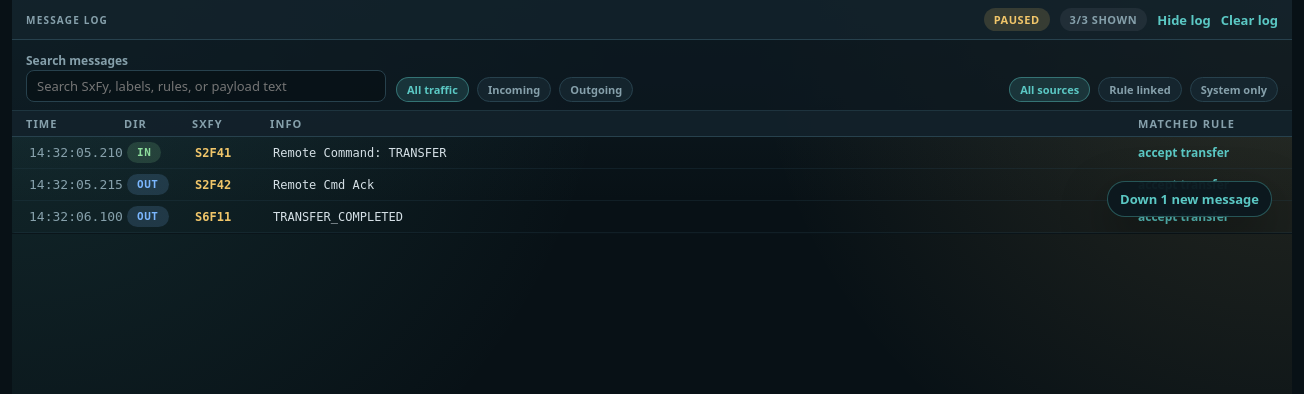
Test: MessageMonitor › pauses auto-tail when scrolled up and lets the user jump to latest messages
Expected: the text "Paused" is shown, 984,8 -> 1050,31
Click the button "Down 1 new message".
click(1190, 199)  # box 1107,181 -> 1272,217
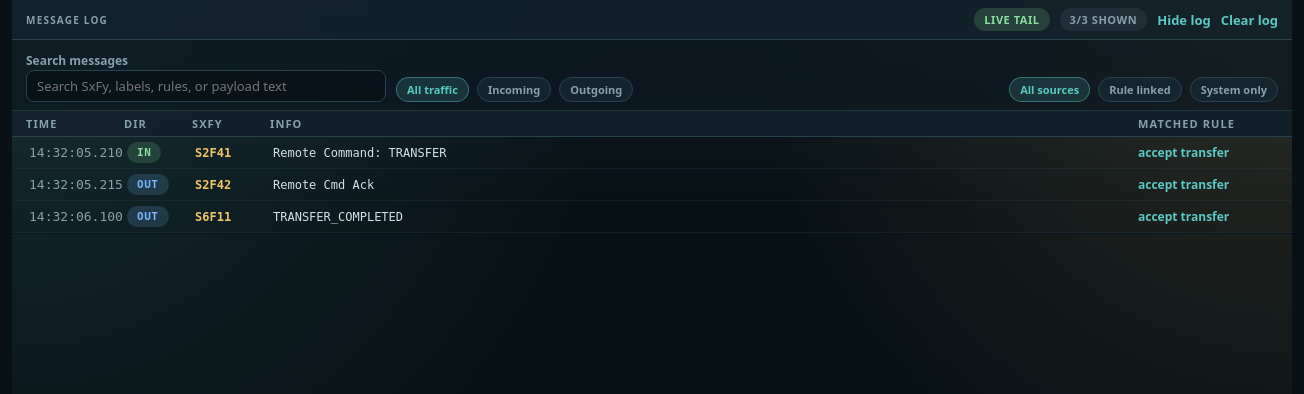
Now the button "Down 1 new message" is gone
Now the text "Live tail" is shown, box 974,8 -> 1050,31
